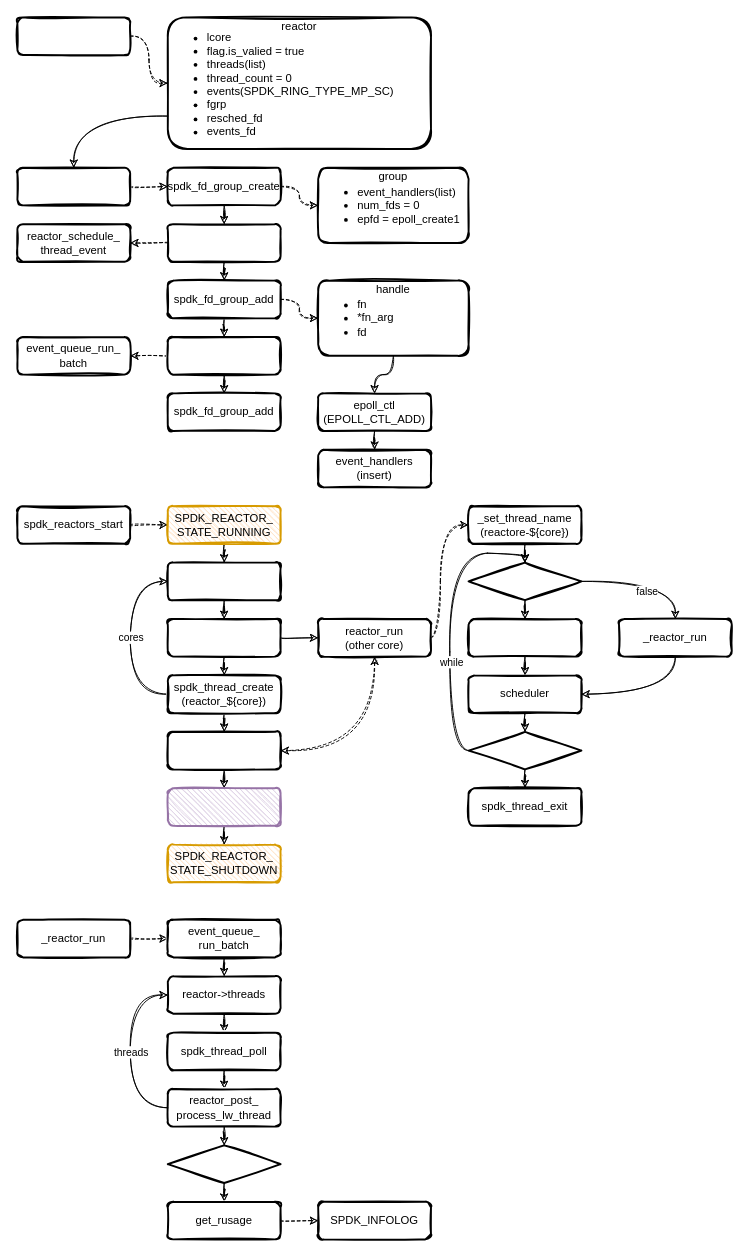
Image size: 748x1256. Some labels were removed from this diagram. The shapes that lost their labels are listed below. From the top down, each one's box as (x1, y1, x2, y2) in pixels, then its label:
(16, 16, 131, 55): reactor_construct
(16, 166, 131, 206): reactor_interrupt_init
(166, 223, 281, 262): resched_fd = eventfd
(166, 336, 281, 375): events_fd = eventfd
(166, 561, 281, 601): SPDK_ENV_ FOREACH_CORE
(467, 561, 582, 601): in_interrupt
(166, 618, 281, 657): spdk_env_thread_ launch_pinned
(467, 618, 582, 657): reactor_interrupt_run
(166, 730, 281, 770): reactor_run (local core)
(467, 730, 582, 770): state
(166, 787, 281, 826): spdk_env_thread_ wait_all
(166, 1144, 281, 1183): context_switch
